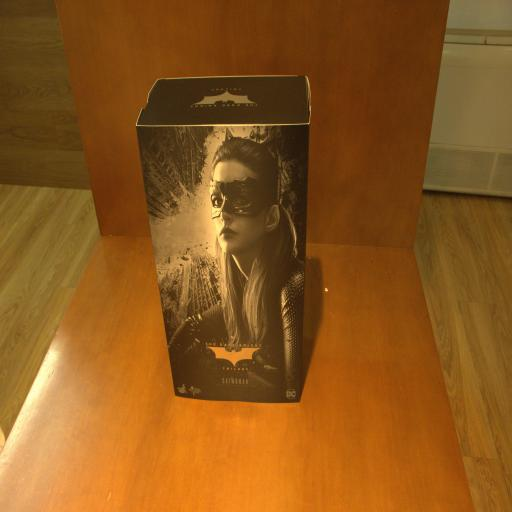catwoman: (137, 73, 309, 403)
